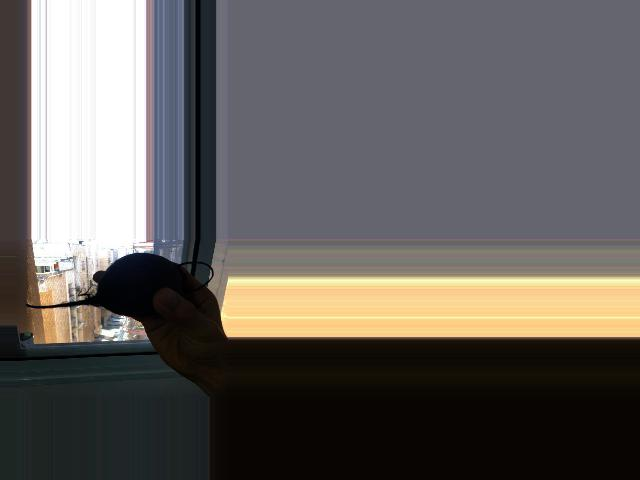beet: (24, 253, 212, 317)
